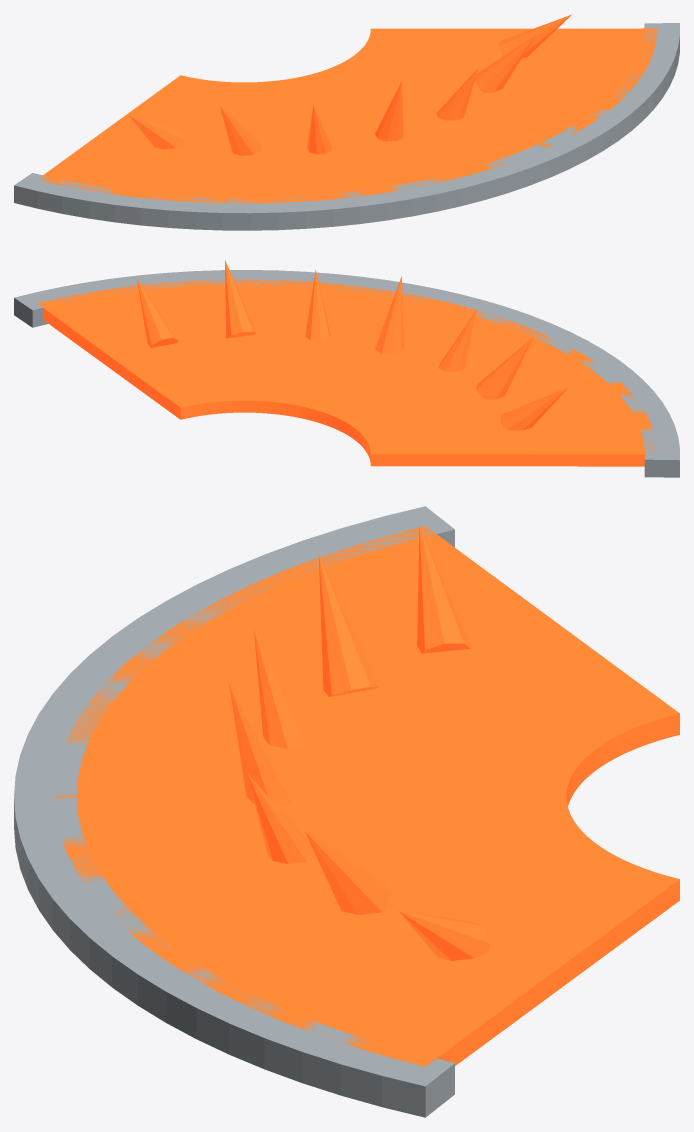
Rendered from keeper_cleaver_wave.glb.
The picture shows the model from 3 angles, top to bottom: view 1: azimuth 30°, elevation 25°; view 2: azimuth 150°, elevation 25°; view 3: azimuth 270°, elevation 25°; orthographic projection. The views are drawn at different scales.
Visible parts, largest first — view 1: keeper cleaver wave core; view 2: keeper cleaver wave core; view 3: keeper cleaver wave core.
Part boxes in pixels (left/top/right/bottom): keeper cleaver wave core: left=14, top=14, right=679, bottom=230; keeper cleaver wave core: left=14, top=260, right=679, bottom=477; keeper cleaver wave core: left=14, top=506, right=679, bottom=1117.
Size of the model in its own units: 4.37 by 0.5144 by 2.12.
